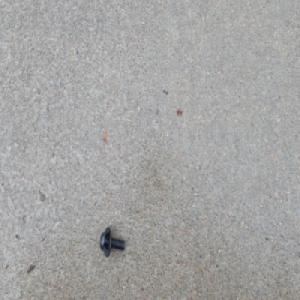BoltWasher: (99, 226, 125, 257)
